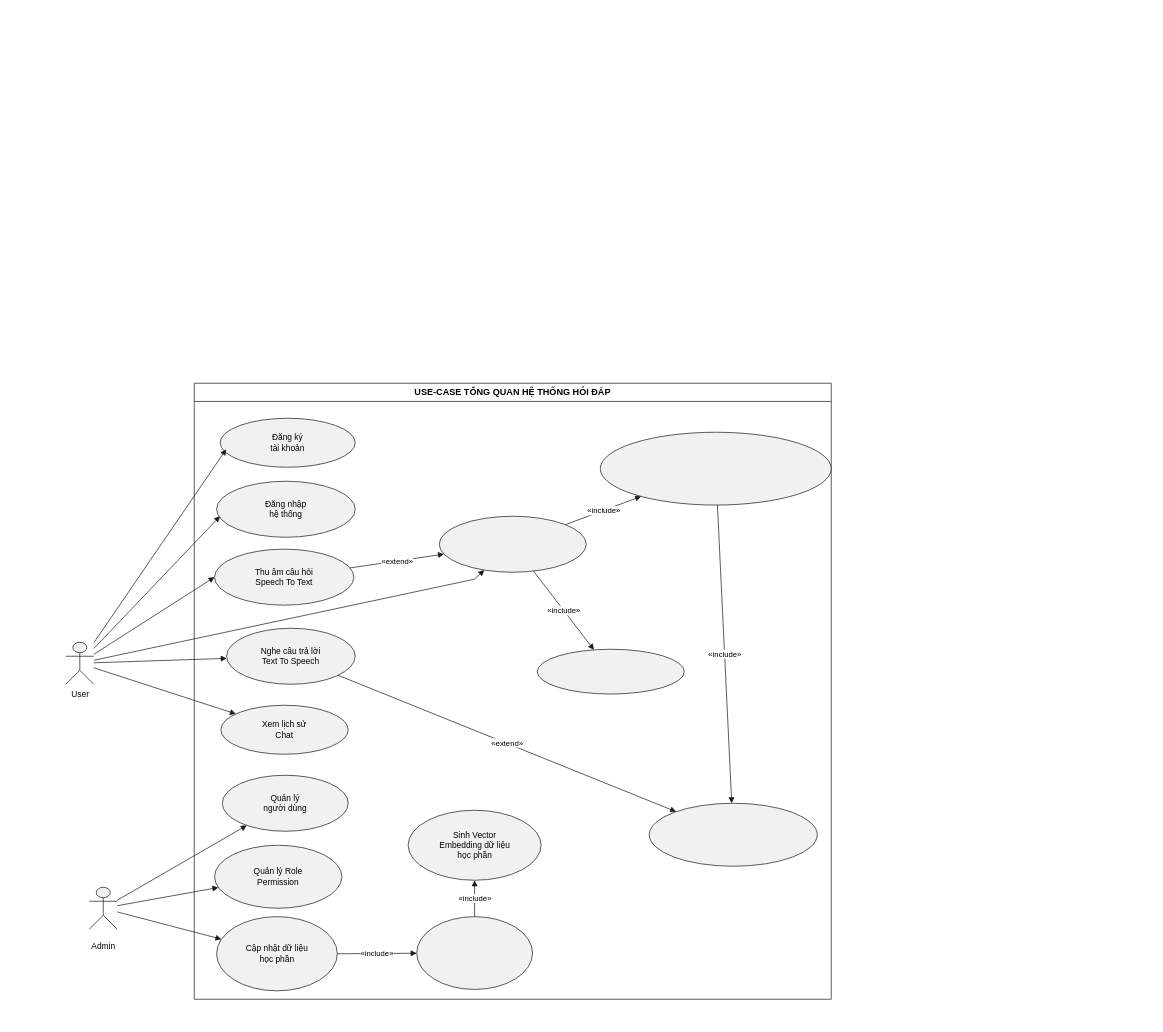
The diagram is 1163 pixels wide and 1032 high, and some of its shapes have lost their labels. The shapes that lost their labels are listed below. From the top down, each one's centre as x and y in pixels, then its label:
the point at 715,468: Xử lý câu hỏi bằng AI Chatbot (RAG Pipeline)
the point at 512,544: Đặt câu hỏi (Text Chat)
the point at 610,671: Lưu lịch sử hội thoại
the point at 733,834: Nhận câu trả lời Từ Chatbot
the point at 474,952: Crawler dữ liệu website trường
